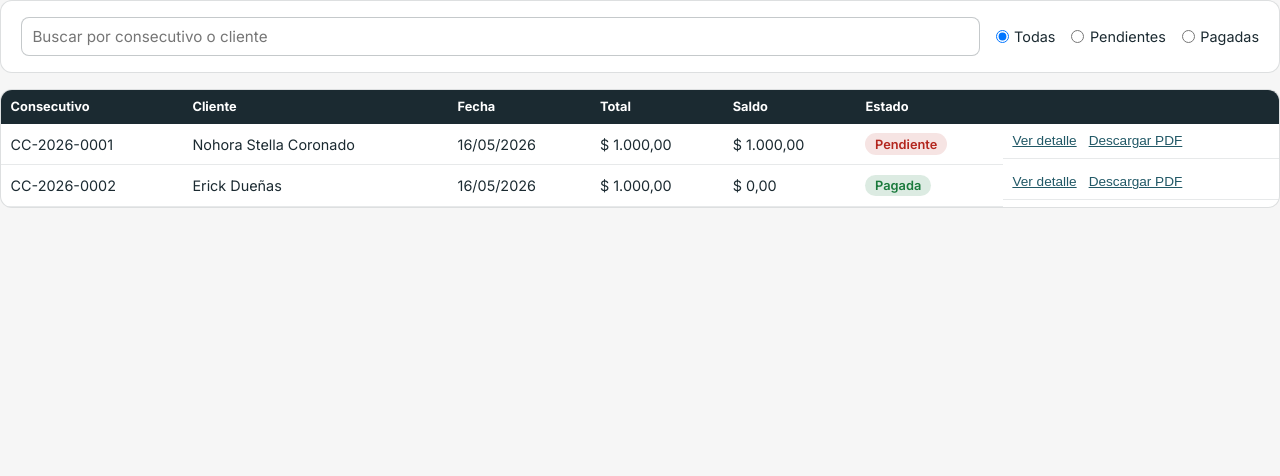
Test: HistorialList › registra un abono y actualiza el saldo mostrado
This screenshot has width=1280, height=476.
Check: the text "CC-2026-0001" is shown, box [1,124,183,165]
Click the button "Ver detalle" in the row of "CC-2026-0001" at (1045, 141), box [1012,133,1077,148]
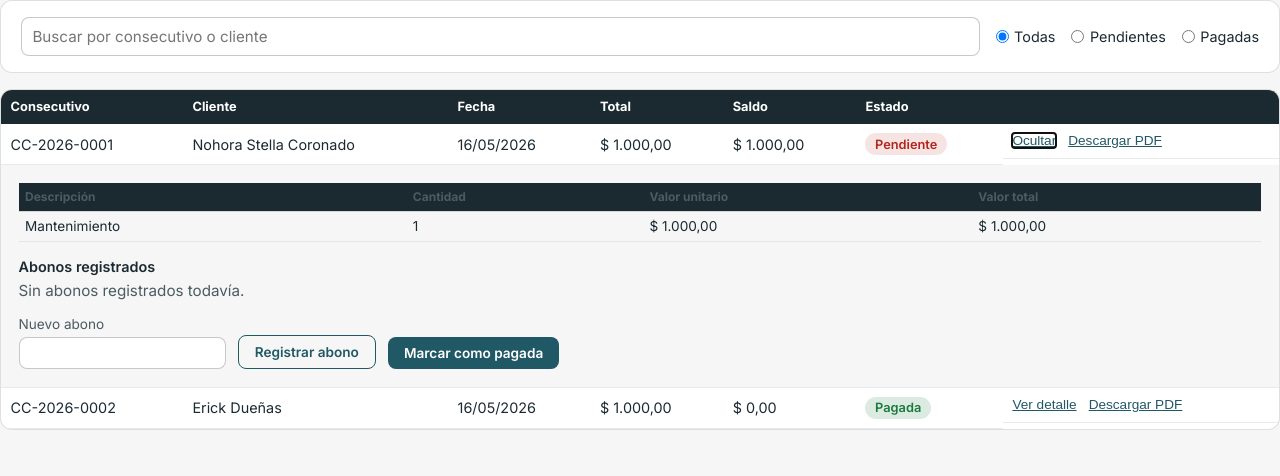
Type "400" into the number field labelled "Nuevo abono" at (122, 353), box [19,337,226,369]
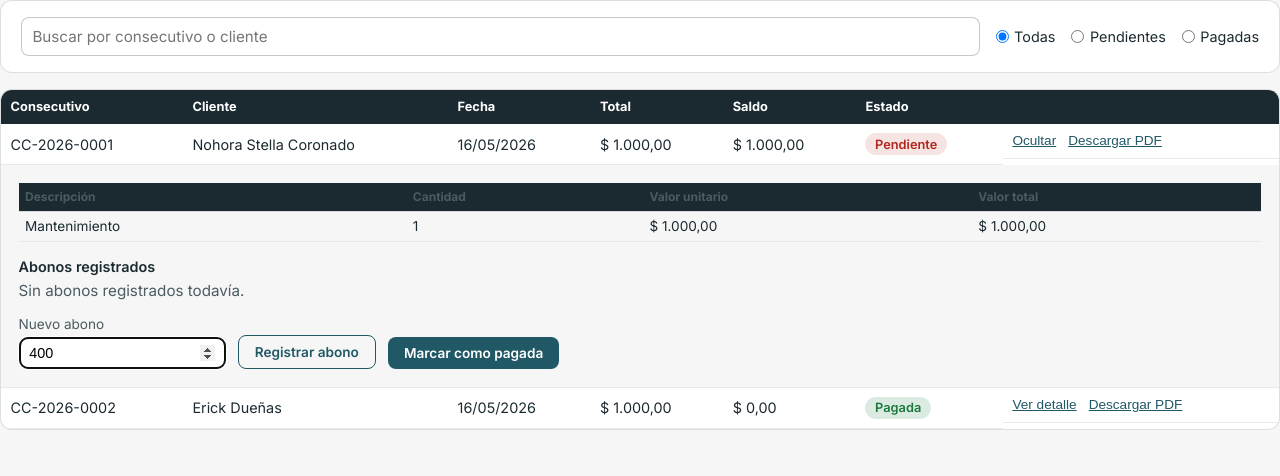
Click the button "Registrar abono" at (307, 352), box [238,335,376,369]
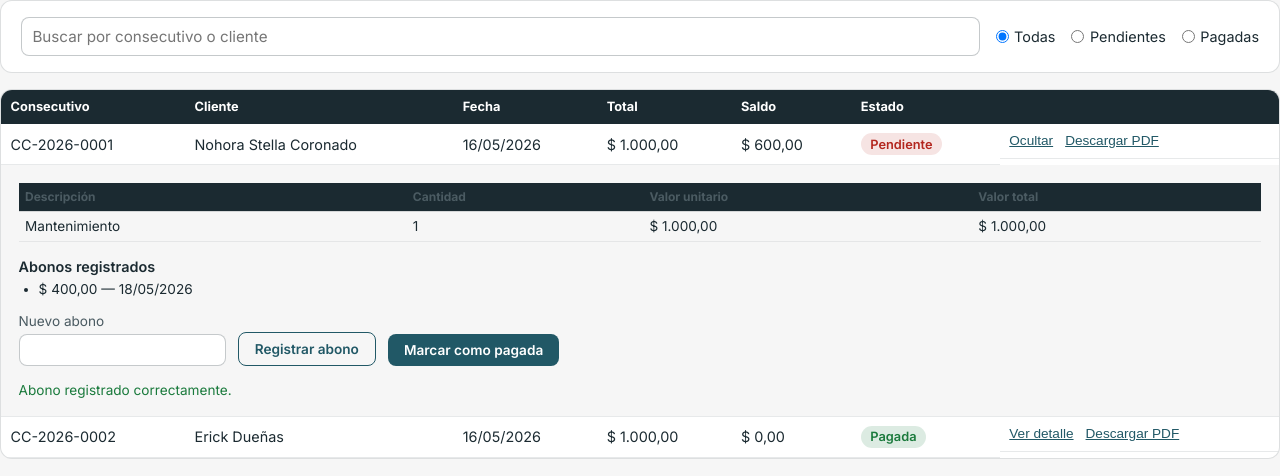
Check: the text "Abono registrado correctamente." is shown, box [19,382,232,398]
Check: the text "$ 600,00" is shown, box [731,124,851,165]
